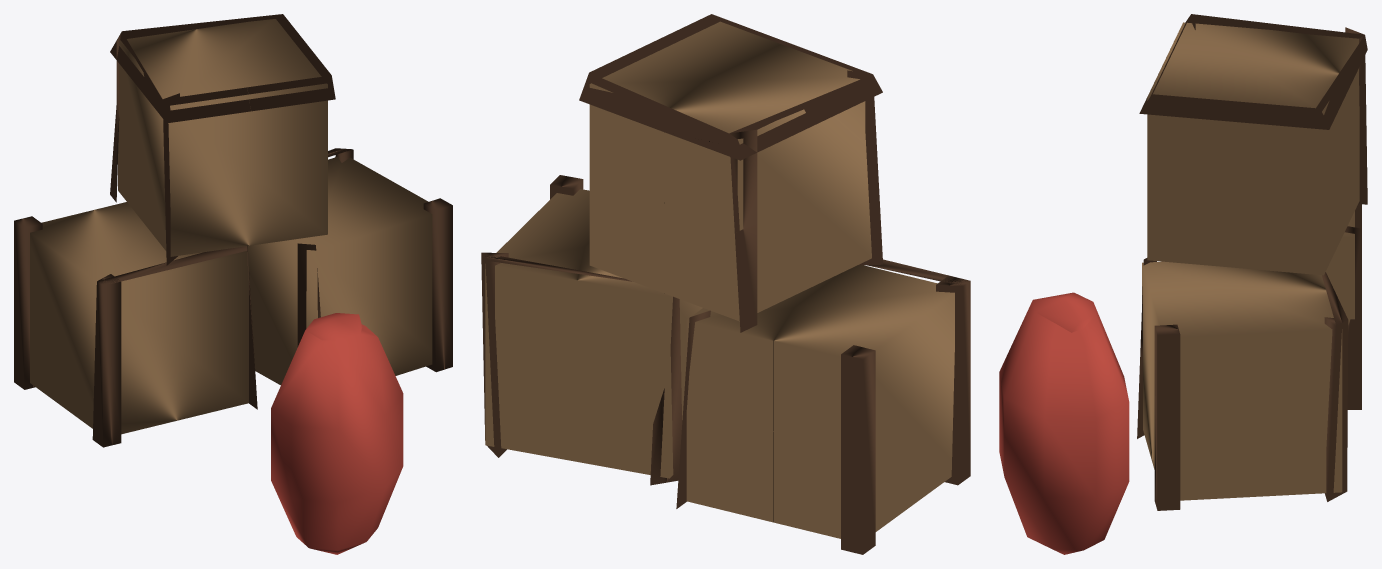
File: storage_crates_lod1.glb
3 views of the same model, side by side, from view 1: azimuth 30°, elevation 25°; view 2: azimuth 150°, elevation 25°; view 3: azimuth 270°, elevation 25° (orthographic). The views are drawn at different scales.
Bounding box in the file's own units: 1.9 × 2.32 × 1.62.
